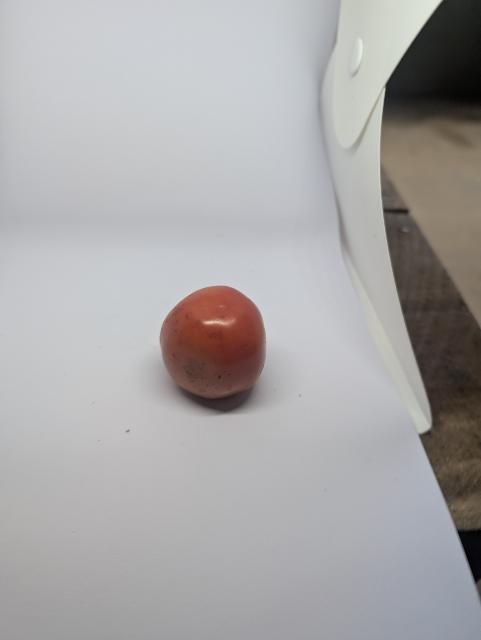red: (154, 275, 287, 414)
